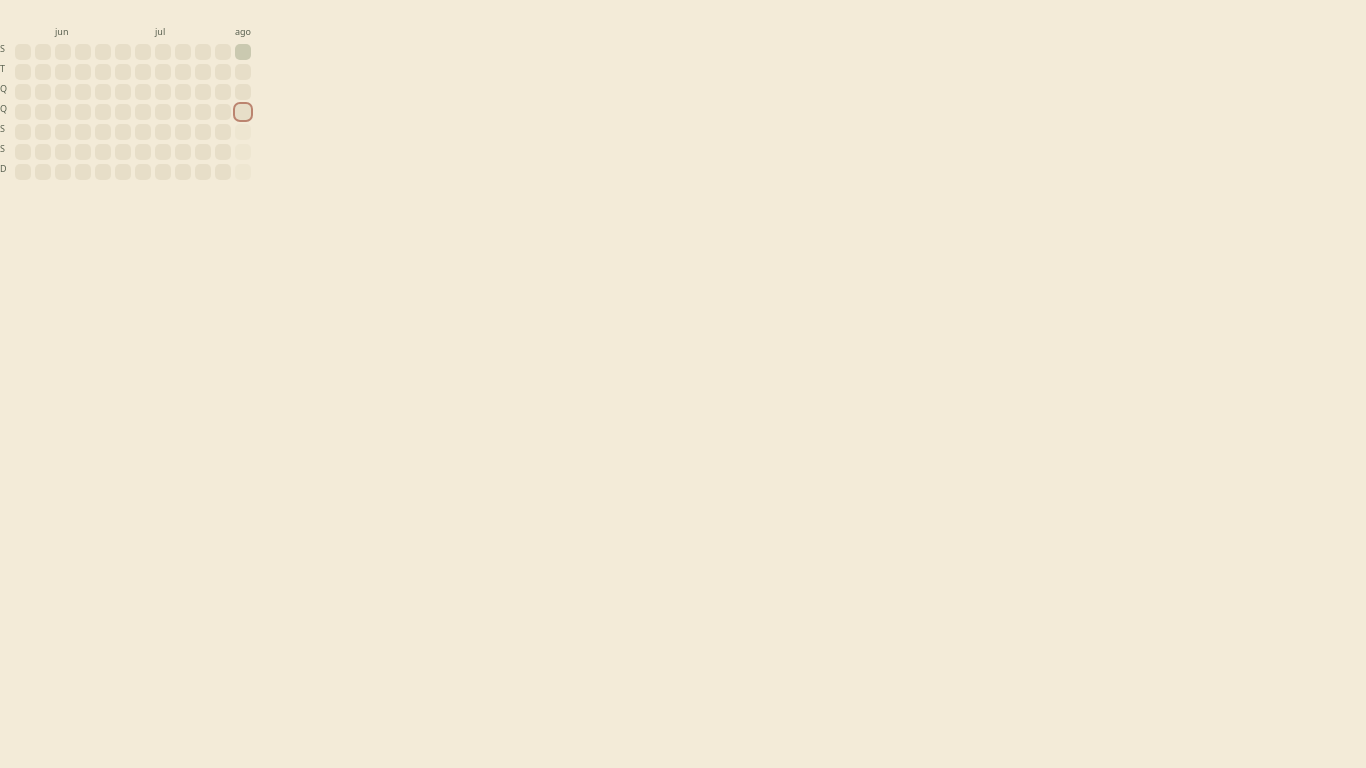
Test: MapaCalor — ordem e formatação do popover no fuso local › mantém contagem singular/plural e total coerentes com um único item
The image size is (1366, 768).
Click the button named "03 de ago. — 1 prática" at (243, 52), box [235,44,251,60]
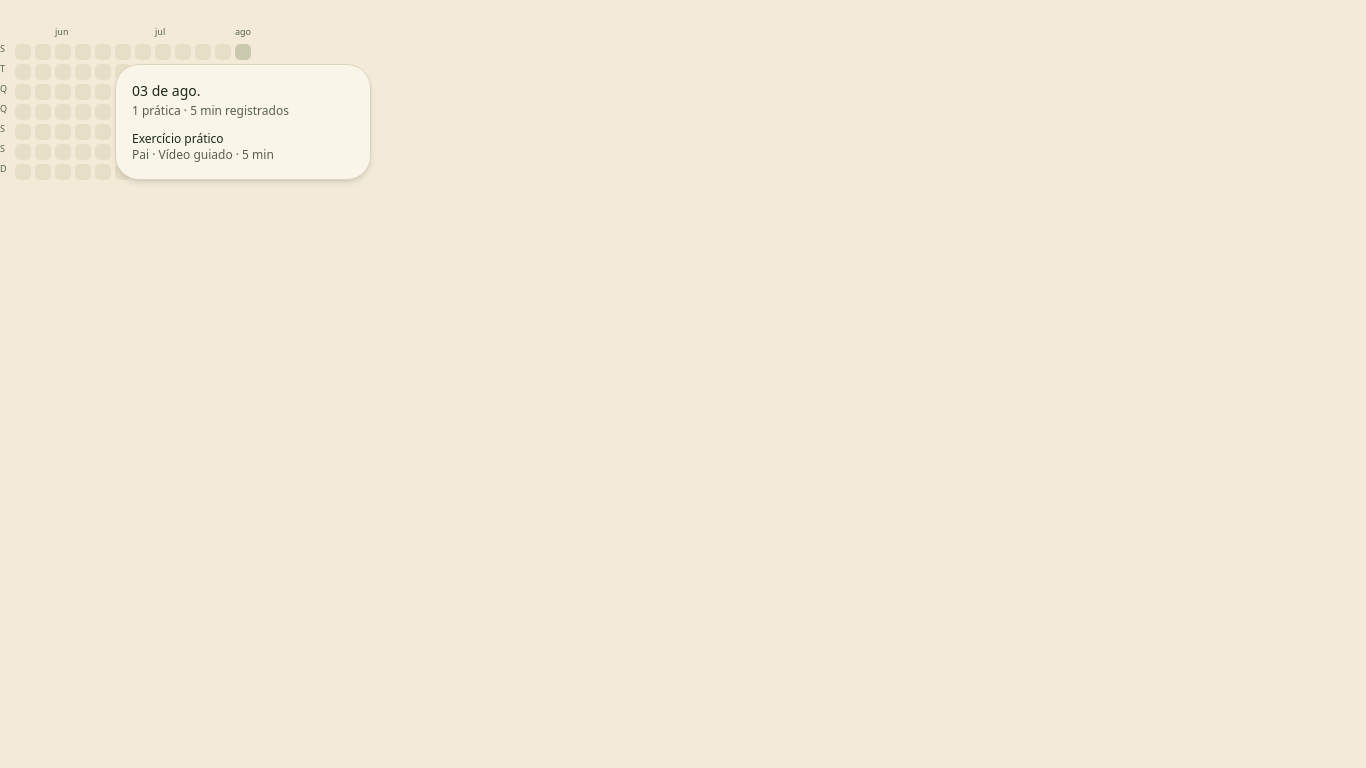
Now the text "1 prática · 5 min registrados" is shown, box [132,102,289,119]
Now the number of list items is 1, box [132,130,274,163]
